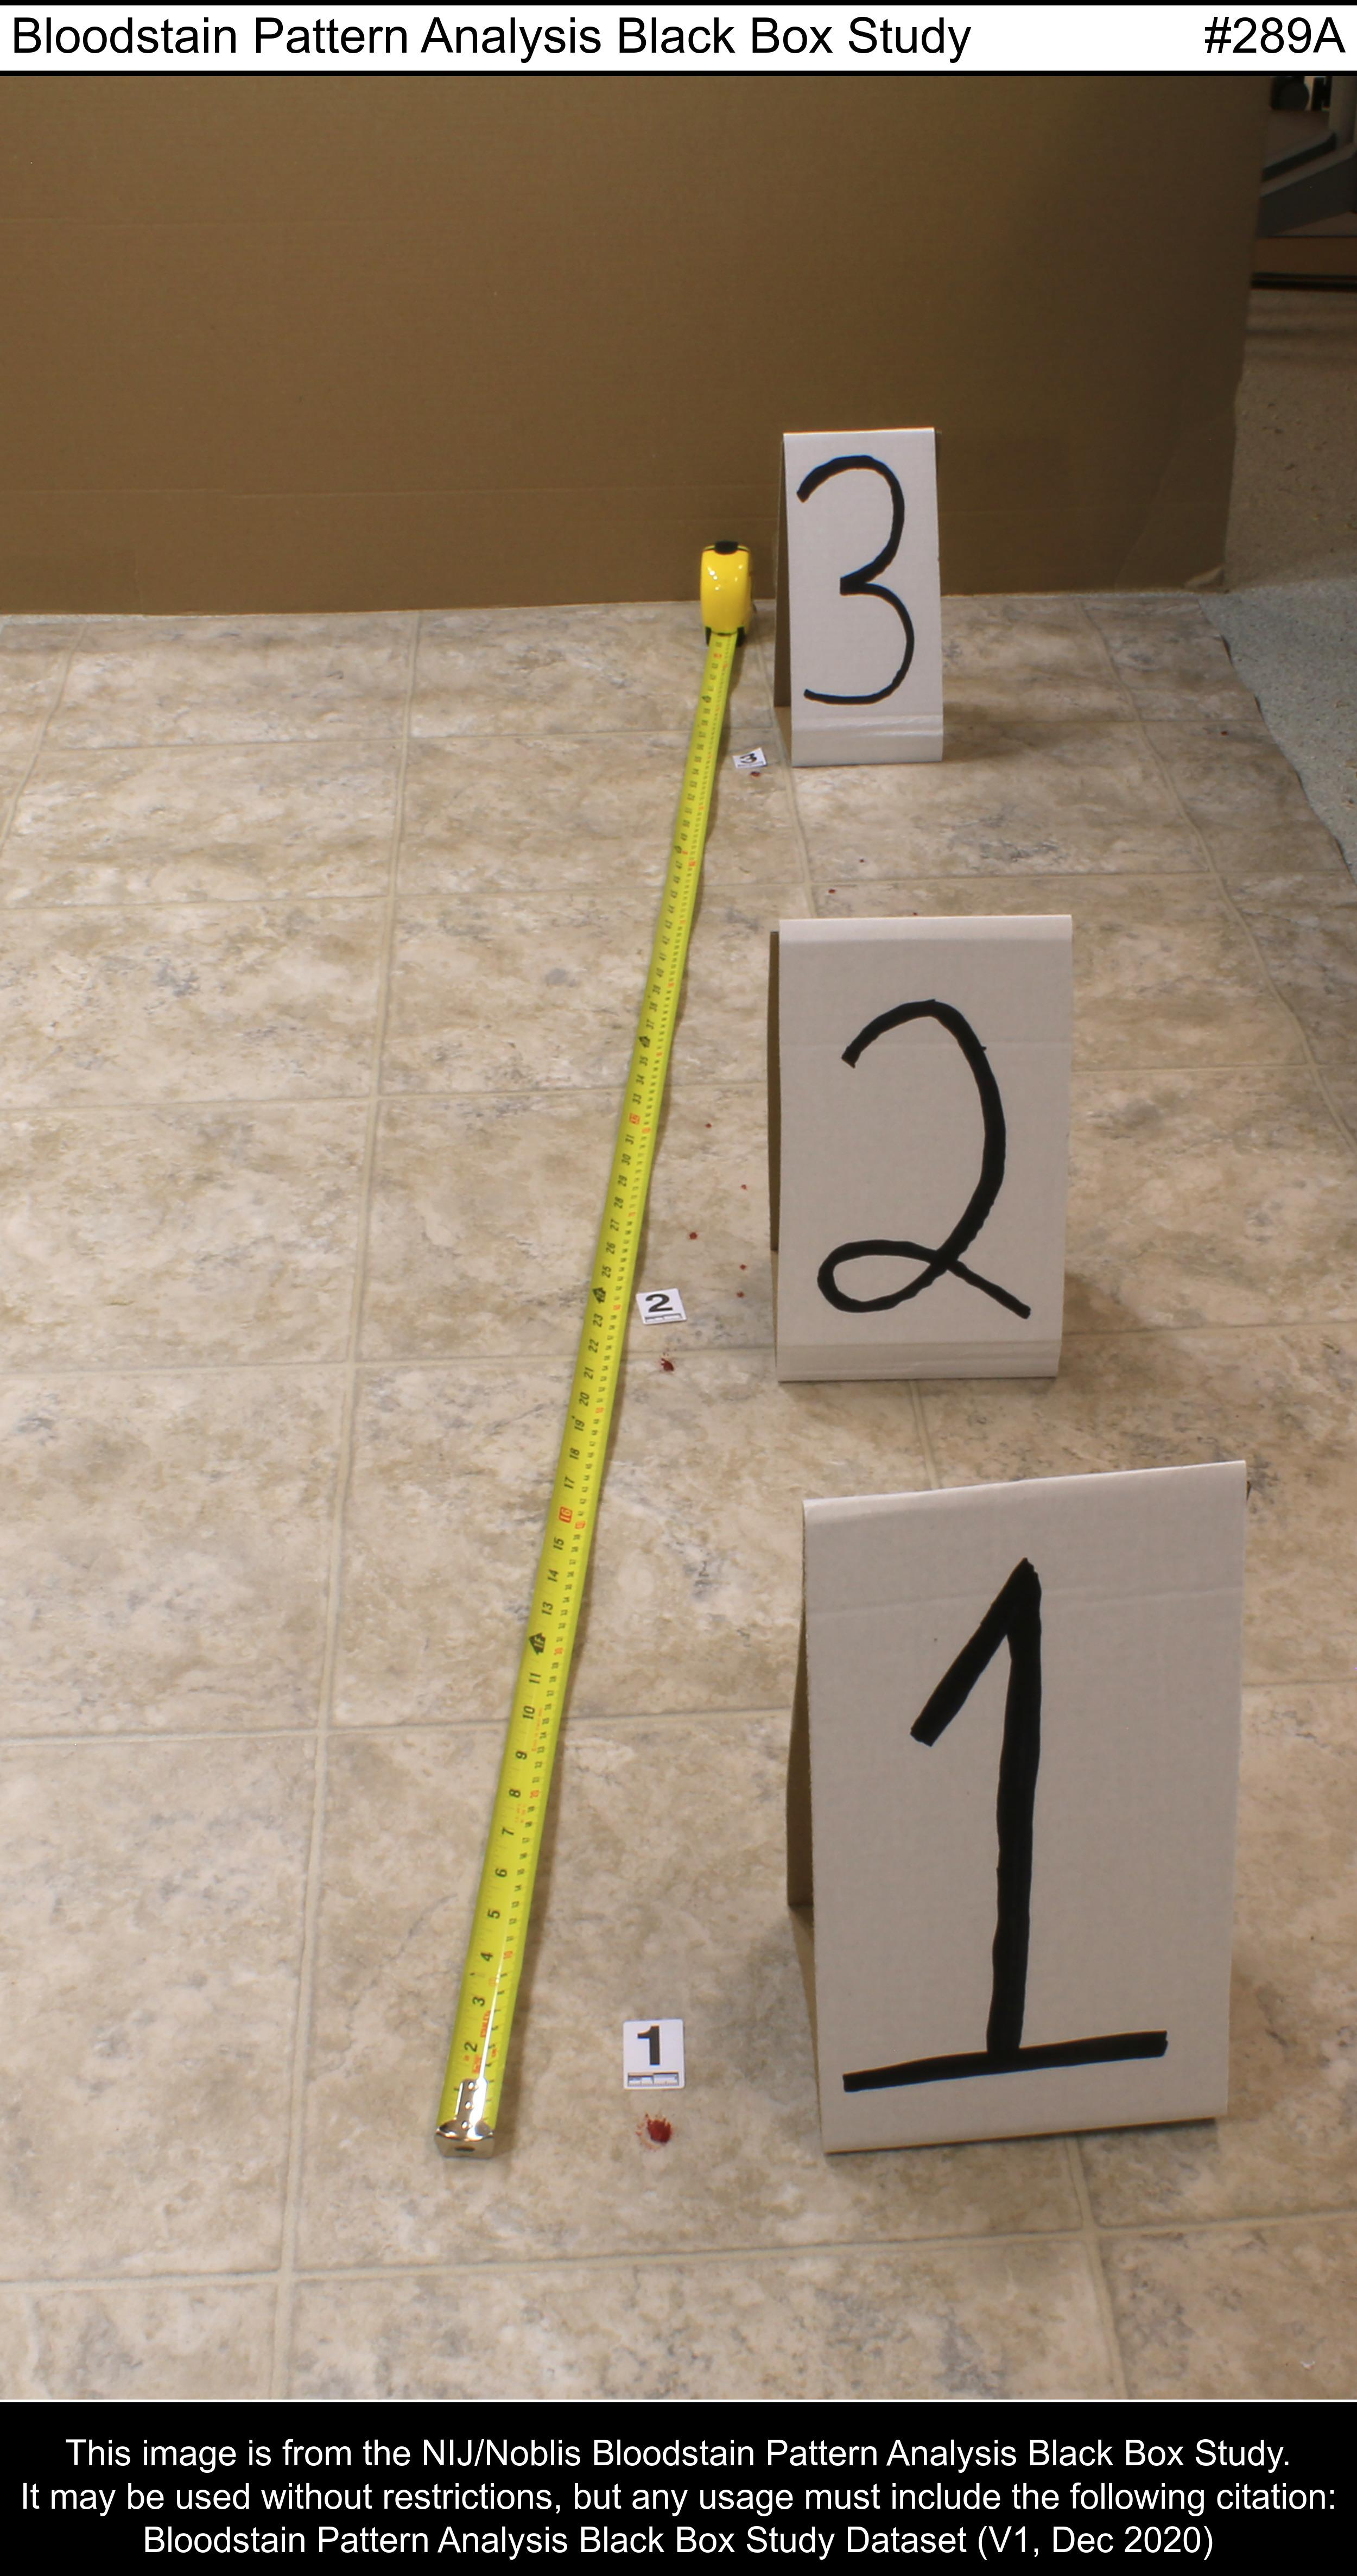Passive: (637, 2106, 678, 2165)
